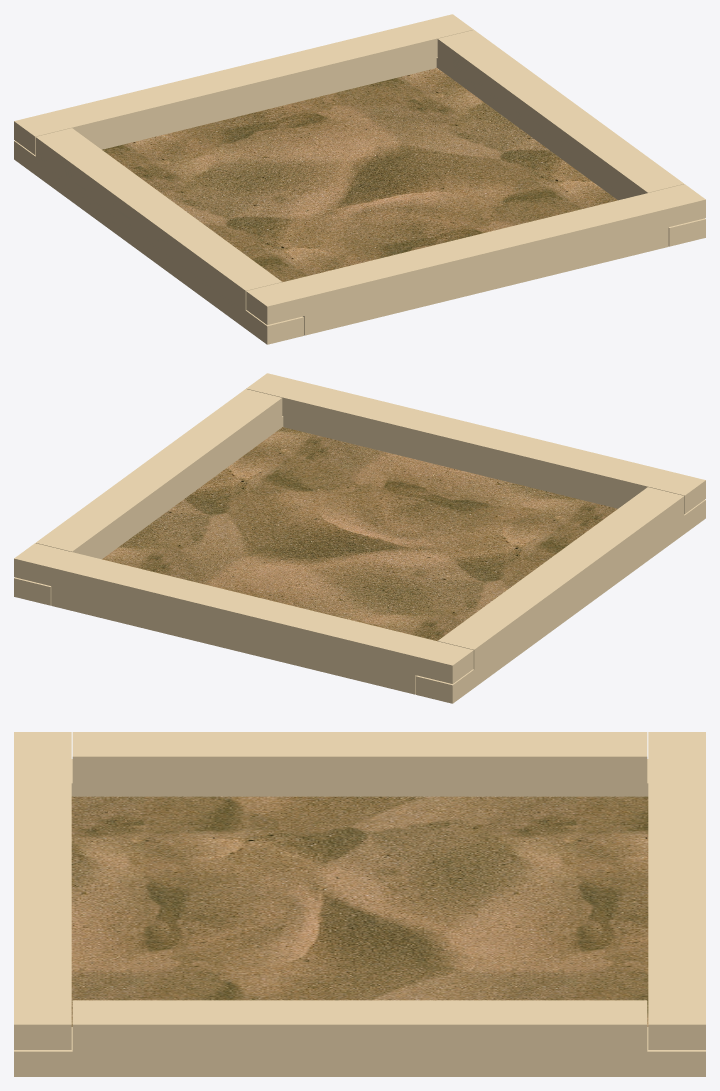
The model's file is Sandbox.FBX.
3 views of the same model, one above another, from view 1: azimuth 30°, elevation 25°; view 2: azimuth 150°, elevation 25°; view 3: azimuth 270°, elevation 25° (orthographic). The views are drawn at different scales.
Parts seen in each view (by area): view 1: sand, Rectangle01, Rectangle02, Rectangle03, Rectangle04; view 2: sand, Rectangle02, Rectangle01, Rectangle03, Rectangle04; view 3: sand, Rectangle04, Rectangle03, Rectangle01, Rectangle02.
Part boxes in pixels (<box>): sand: <box>102,68,617,282</box>; Rectangle01: <box>246,184,705,335</box>; Rectangle02: <box>14,14,473,154</box>; Rectangle03: <box>14,128,303,344</box>; Rectangle04: <box>436,30,705,246</box>; sand: <box>102,427,617,641</box>; Rectangle02: <box>14,543,473,694</box>; Rectangle01: <box>246,373,705,513</box>; Rectangle03: <box>416,487,705,703</box>; Rectangle04: <box>14,389,283,605</box>; sand: <box>71,796,648,1026</box>; Rectangle04: <box>14,1000,705,1076</box>; Rectangle03: <box>71,732,648,796</box>; Rectangle01: <box>14,732,71,1049</box>; Rectangle02: <box>648,732,705,1049</box>.
Size of the model in its own units: 240 by 20 by 240.
